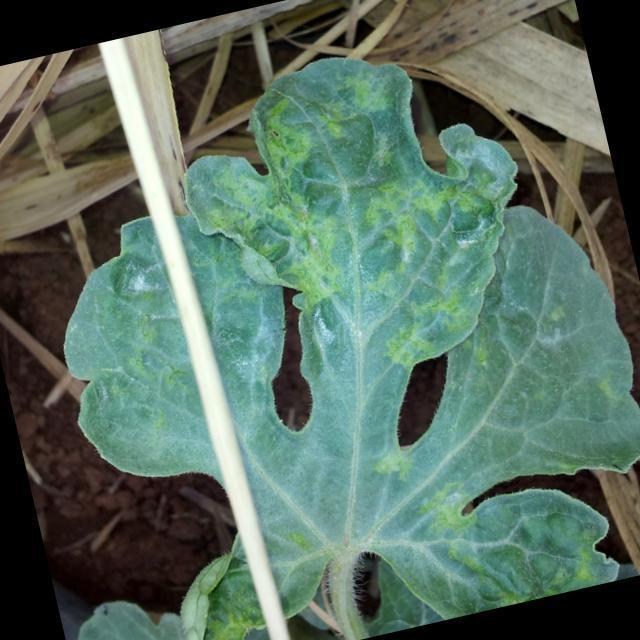Mosaic Virus: (166, 32, 572, 368), (346, 405, 626, 633)
